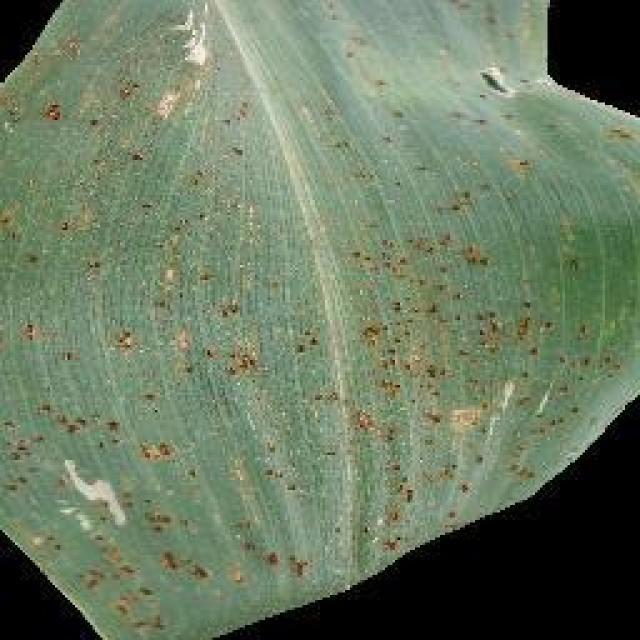Corn Common Rust: (6, 61, 542, 586)
